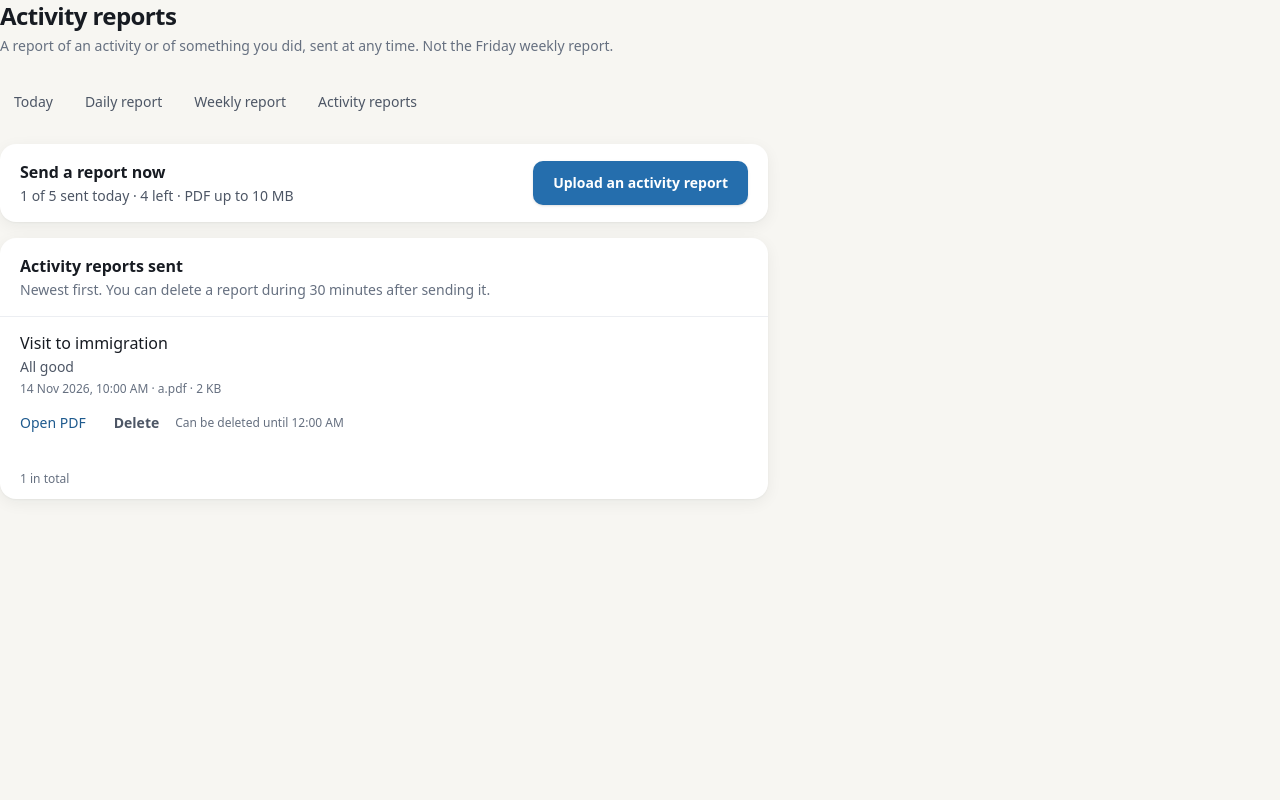
Test: Activity reports page › lists reports, shows quota and deletes with confirmation
Expected: the text "Visit to immigration" is shown, x1=20 y1=332 x2=168 y2=354
Expected: the text with test id "activity-quota" shows "1 of 5 sent today · 4 left", x1=20 y1=186 x2=294 y2=205
Click the button "Delete" at x=136, y=423, box x1=102 y1=401 x2=171 y2=445
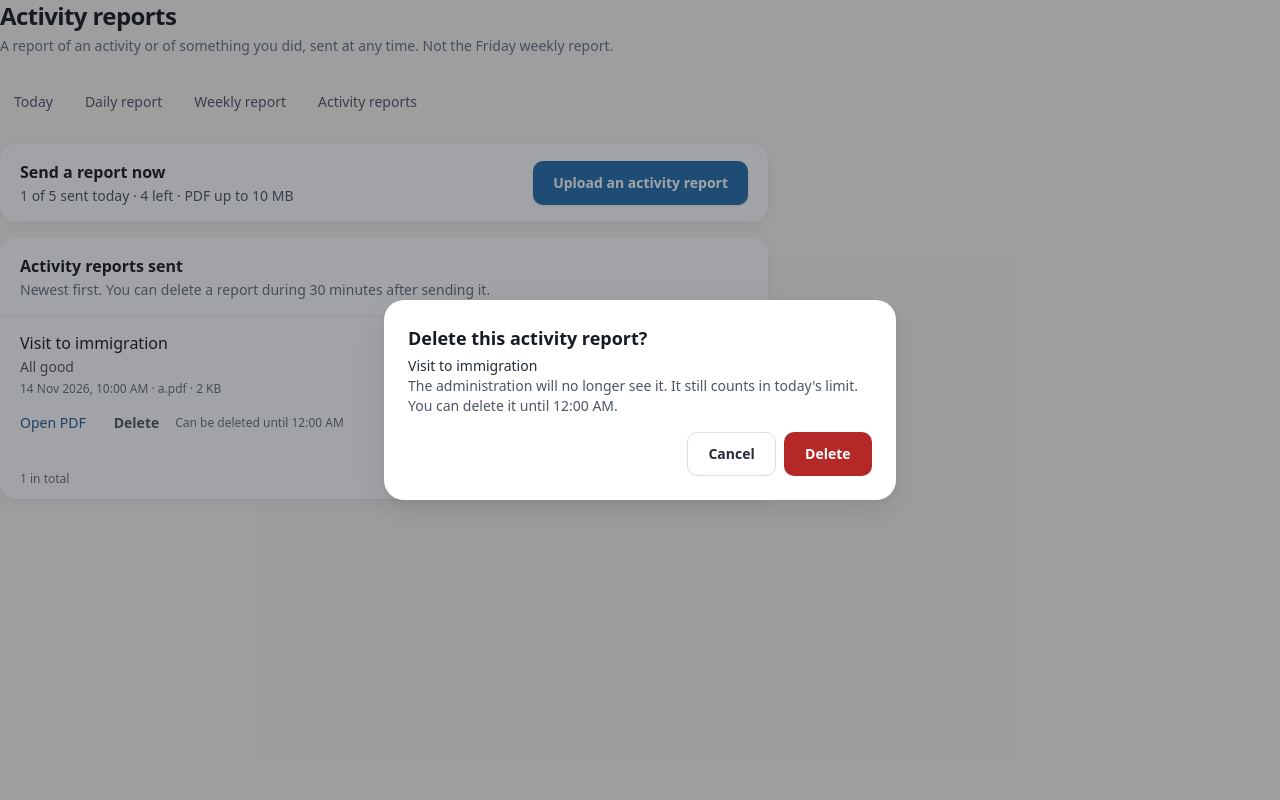
Click the button "Delete" at x=828, y=454, box x1=784 y1=432 x2=872 y2=476
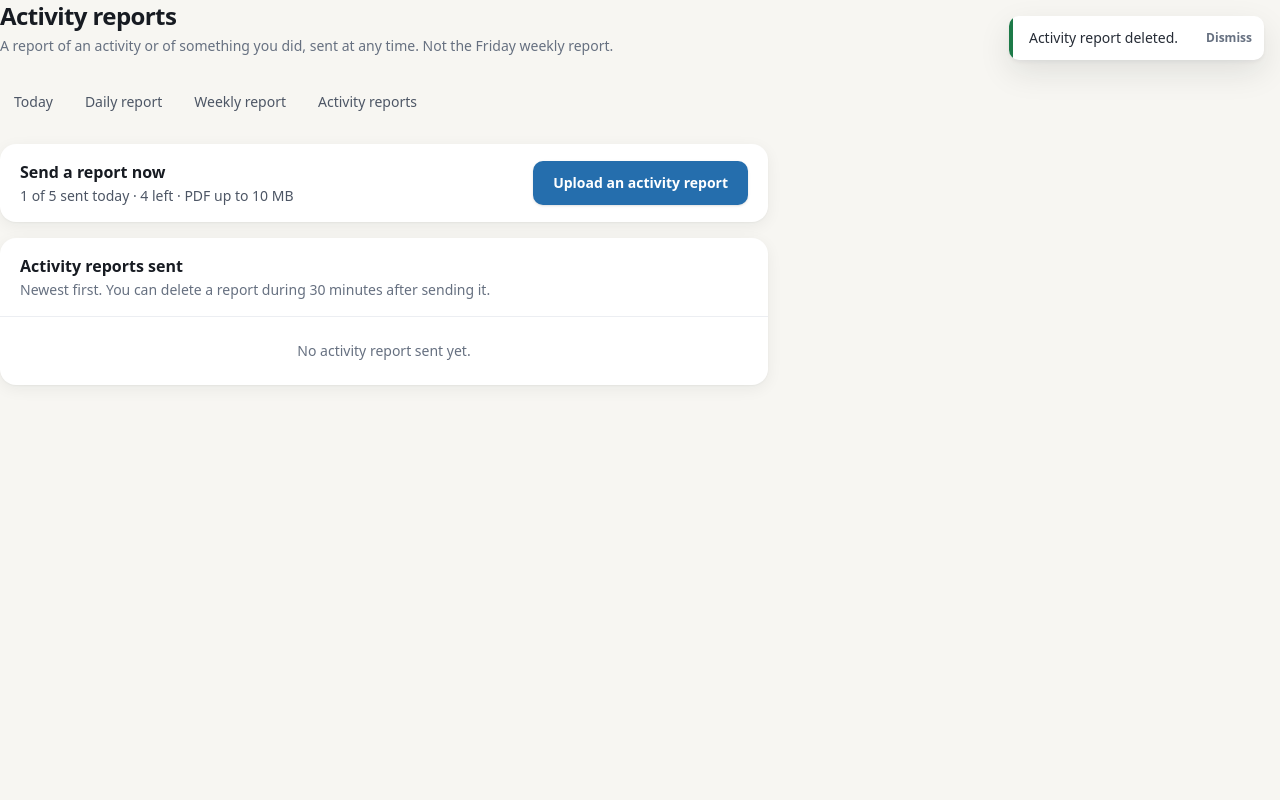
Now the text "No activity report sent yet." is shown, box x1=297 y1=341 x2=471 y2=360
